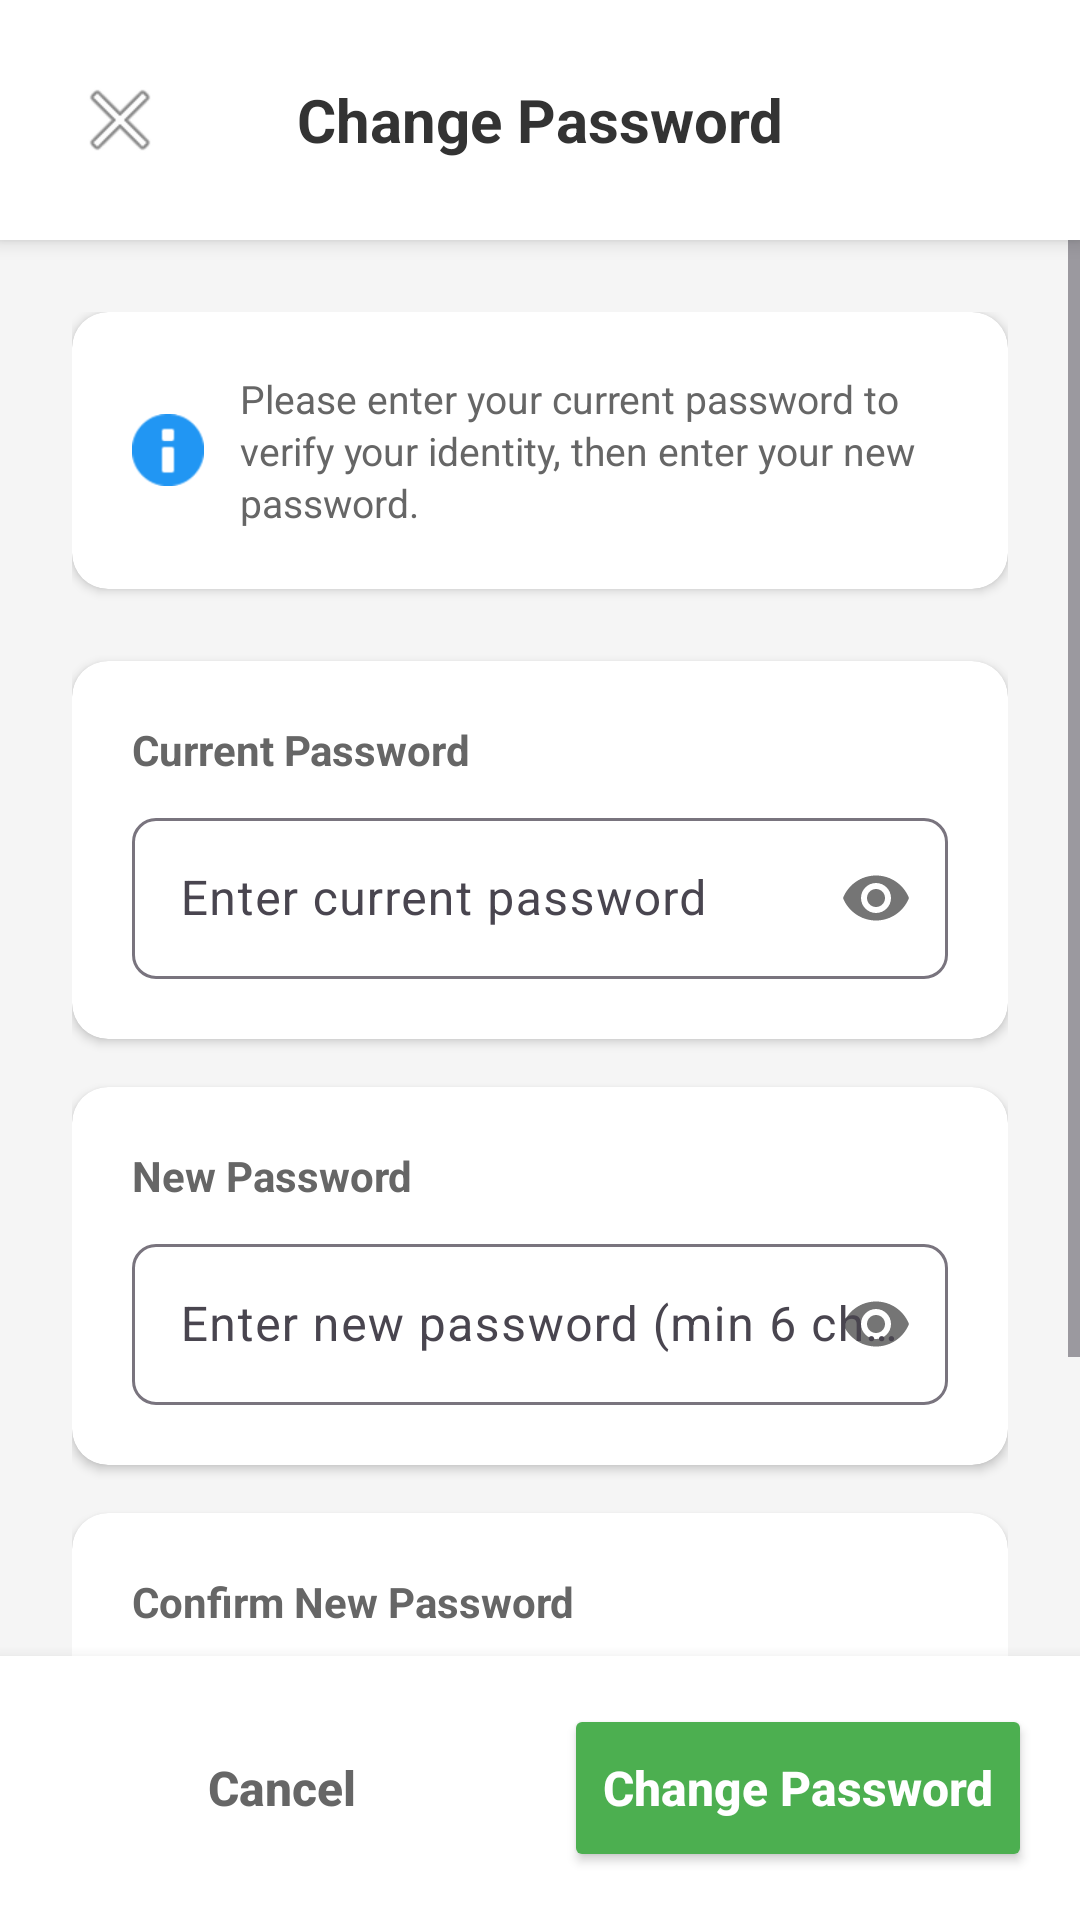

Screen size 1080px×1920px. Icon name, then its box in pixels as (x1, y1, x2, y2):
info: (132, 414, 204, 486)
